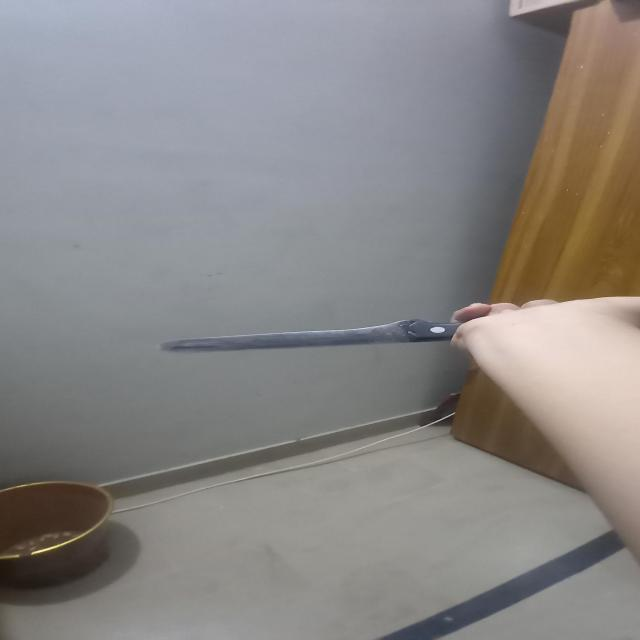Knife: (162, 318, 458, 354)
Person: (455, 291, 640, 563)
